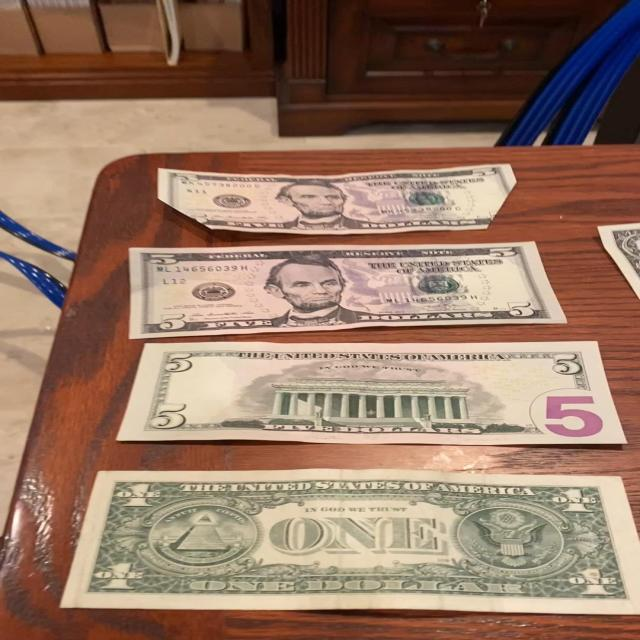1-Back: (60, 467, 632, 609)
5-Back: (116, 341, 625, 445)
5-Front: (127, 242, 570, 342), (158, 162, 520, 235)
